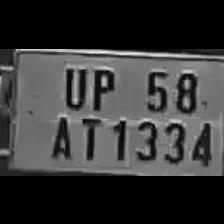1: (105, 113, 129, 161)
3: (130, 115, 159, 161), (159, 117, 187, 163)
4: (187, 116, 213, 166)
5: (140, 65, 170, 111)
8: (169, 67, 198, 113)
A: (46, 112, 74, 160)
P: (86, 62, 116, 110)
T: (74, 114, 104, 160)
U: (58, 62, 88, 108)
